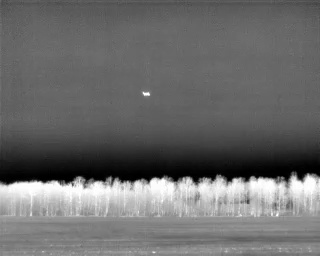DRONE: (139, 87, 154, 100)
